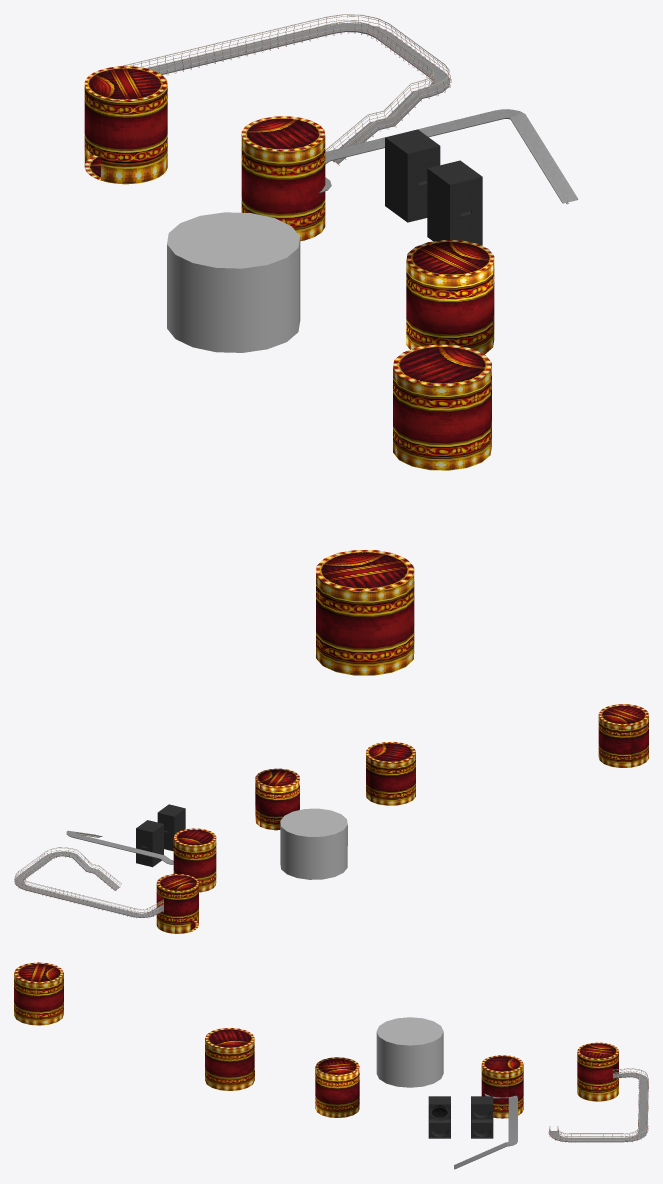
The model's file is Columnas y escaleras.fbx.
3 renders of one model, top to bottom at view 1: azimuth 30°, elevation 25°; view 2: azimuth 150°, elevation 25°; view 3: azimuth 270°, elevation 25°, orthographic. The views are drawn at different scales.
Parts seen in each view (by area): view 1: Cylinder_001, Cylinder_003, Cylinder_004, Cylinder_006, Cylinder_002, pCylinder1, Plane_014, Stage_Speaker_60x60x120_001, Stage_Speaker_60x60x120, Plane_015, Plane_128, Plane_127; view 2: Cylinder_001, Cylinder_004, Cylinder_003, Cylinder_006, Cylinder_002, pCylinder1, Plane_014, Plane_128, Stage_Speaker_60x60x120, Stage_Speaker_60x60x120_001, Plane_015, Plane_127; view 3: Cylinder_001, Cylinder_004, Cylinder_003, Cylinder_002, Cylinder_006, pCylinder1, Plane_014, Stage_Speaker_60x60x120, Plane_015, Stage_Speaker_60x60x120_001, Plane_128.
Boxes of the visible parts, x1,y1,x2,y2 form: Cylinder_001: (167, 212, 300, 352); Cylinder_003: (393, 344, 491, 470); Cylinder_004: (316, 550, 414, 675); Cylinder_006: (84, 66, 167, 184); Cylinder_002: (406, 240, 494, 354); pCylinder1: (241, 116, 325, 241); Plane_014: (147, 23, 450, 163); Stage_Speaker_60x60x120_001: (427, 160, 482, 245); Stage_Speaker_60x60x120: (385, 129, 440, 222); Plane_015: (319, 109, 577, 203); Plane_128: (120, 14, 450, 161); Plane_127: (133, 15, 451, 165); Cylinder_001: (280, 808, 347, 879); Cylinder_004: (598, 704, 648, 767); Cylinder_003: (366, 741, 415, 805); Cylinder_006: (156, 874, 198, 933); Cylinder_002: (255, 768, 299, 830); pCylinder1: (173, 828, 216, 892); Plane_014: (14, 851, 163, 917); Plane_128: (14, 847, 163, 916); Stage_Speaker_60x60x120: (136, 820, 163, 867); Stage_Speaker_60x60x120_001: (157, 804, 185, 851); Plane_015: (66, 830, 173, 864); Plane_127: (14, 849, 163, 917); Cylinder_001: (376, 1017, 443, 1087); Cylinder_004: (14, 962, 63, 1025); Cylinder_003: (205, 1028, 254, 1090); Cylinder_002: (315, 1057, 359, 1117); Cylinder_006: (577, 1042, 618, 1101); pCylinder1: (481, 1055, 523, 1118); Plane_014: (549, 1072, 648, 1142); Stage_Speaker_60x60x120: (471, 1096, 493, 1138); Plane_015: (454, 1093, 517, 1169); Stage_Speaker_60x60x120_001: (428, 1096, 450, 1138); Plane_128: (549, 1068, 648, 1140).
Bounding box in the file's own units: 1779 × 237 × 2913.
14 materials, 10 textured.
